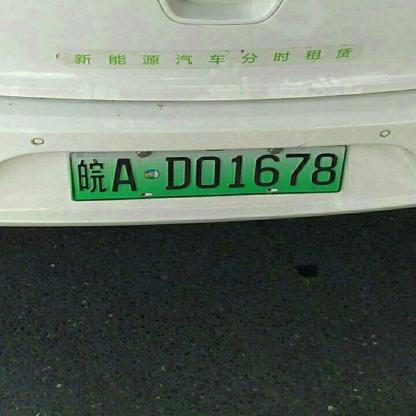lp: (67, 148, 341, 202)
